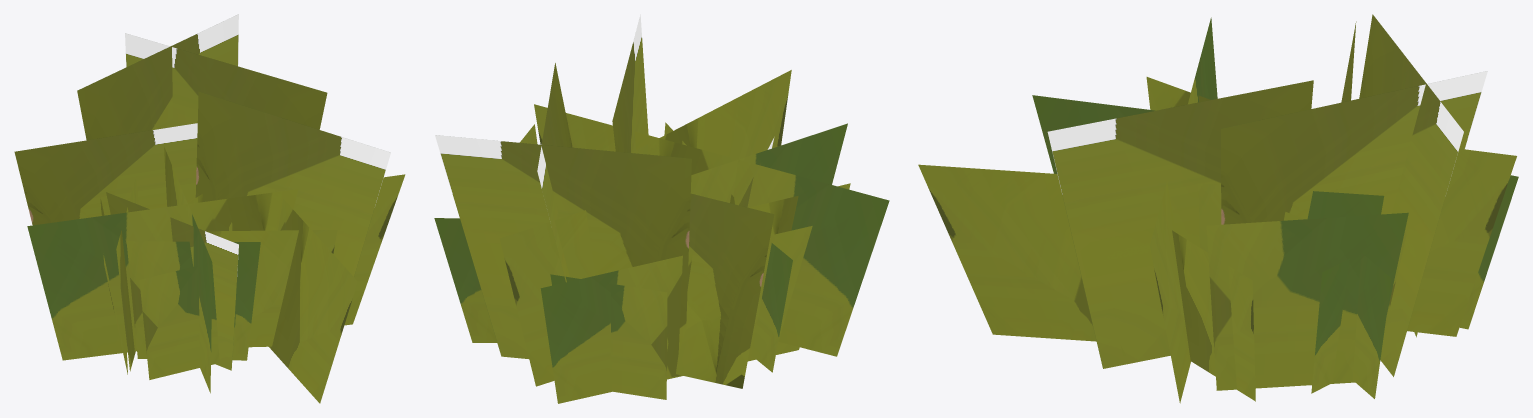
File: SM_Env_Ground_Cover_02.fbx
3 renders of one model, left to right at view 1: azimuth 30°, elevation 25°; view 2: azimuth 150°, elevation 25°; view 3: azimuth 270°, elevation 25°, orthographic. The views are drawn at different scales.
Parts seen in each view (by area): view 1: SM_Env_Ground_Cover_02; view 2: SM_Env_Ground_Cover_02; view 3: SM_Env_Ground_Cover_02.
Boxes of the visible parts, x1=… form: SM_Env_Ground_Cover_02: x1=14, y1=14, x2=405, y2=403; SM_Env_Ground_Cover_02: x1=434, y1=14, x2=889, y2=403; SM_Env_Ground_Cover_02: x1=918, y1=14, x2=1518, y2=403.
Size of the model in its own units: 115 by 70.06 by 139.
